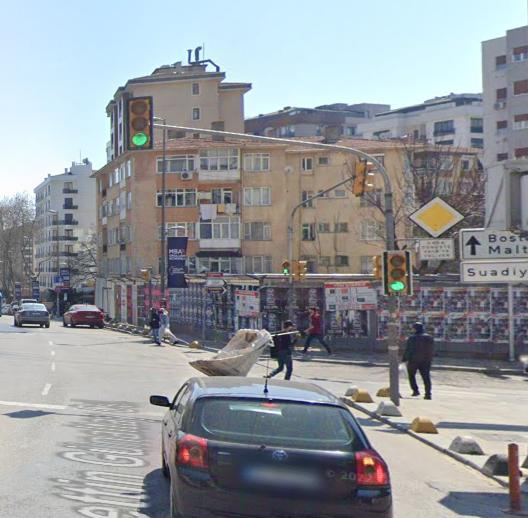greenlight: (125, 96, 151, 149), (386, 249, 409, 295)
